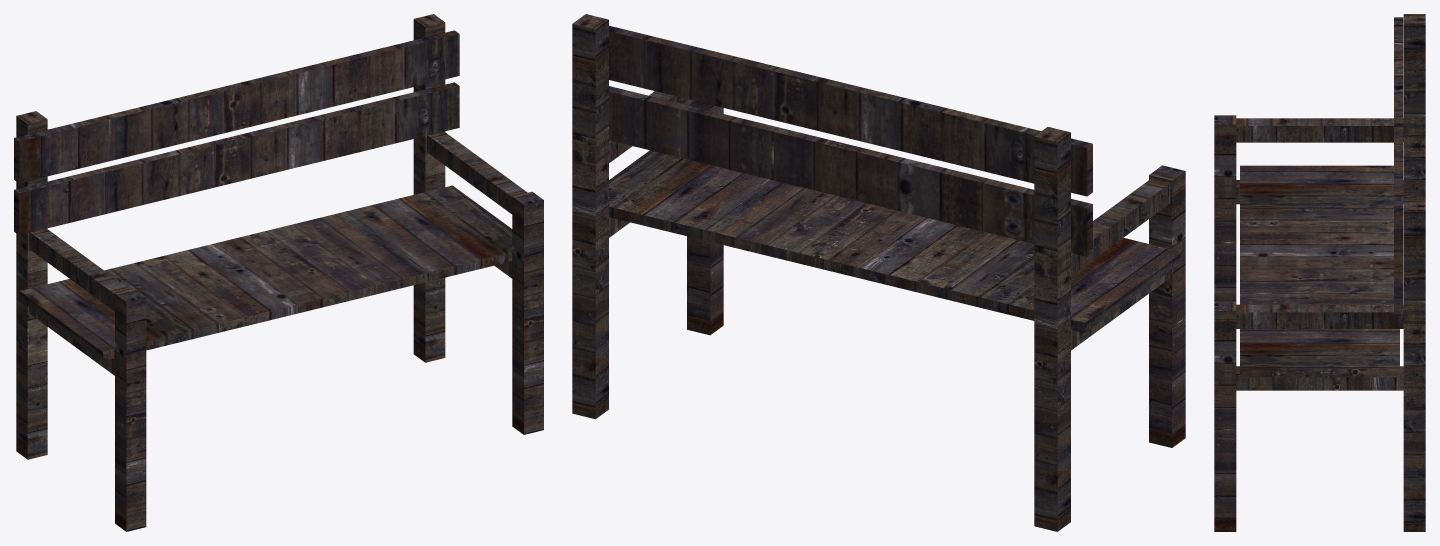
File: Bench_Wood.glb
3 views of the same model, side by side, from view 1: azimuth 30°, elevation 25°; view 2: azimuth 150°, elevation 25°; view 3: azimuth 270°, elevation 25° (orthographic). The views are drawn at different scales.
Parts seen in each view (by area): view 1: Bench; view 2: Bench; view 3: Bench.
Boxes of the visible parts, x1,y1,x2,y2 form: Bench: (14, 14, 543, 531); Bench: (572, 14, 1185, 531); Bench: (1214, 14, 1425, 531).
Bounding box in the file's own units: 1.37 × 1 × 0.5951.
1 material, 1 textured.
